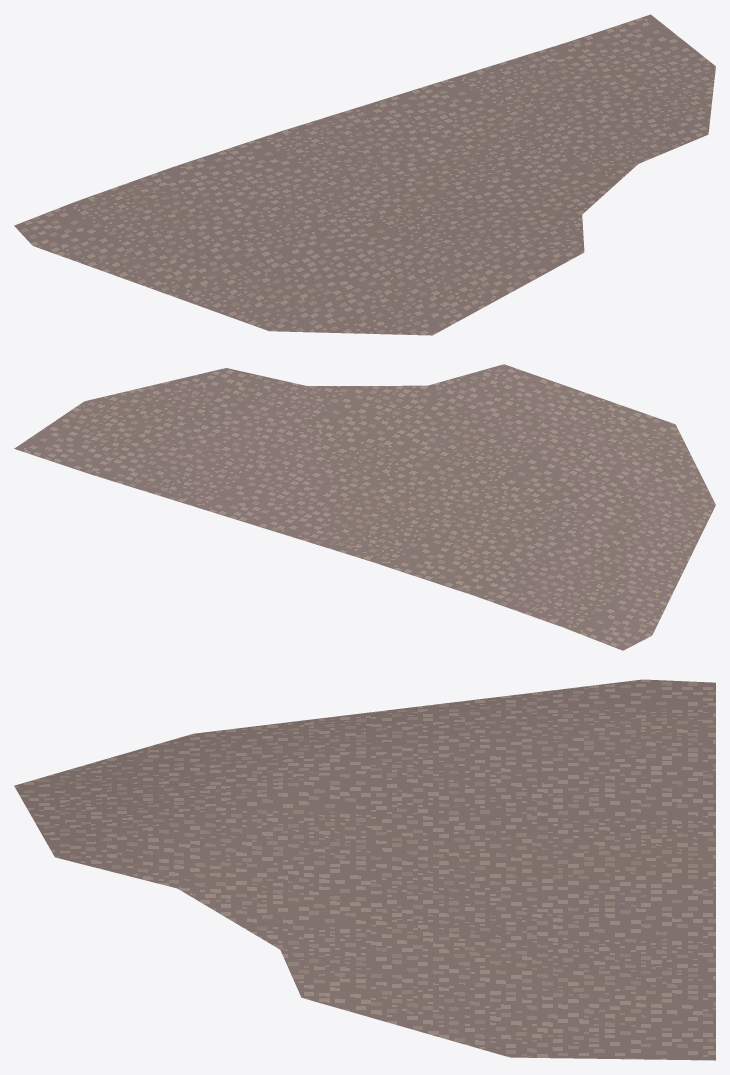
Rendered from kd_stage_135fe0_0_8_bounded.glb.
3 views of the same model, one above another, from view 1: azimuth 30°, elevation 25°; view 2: azimuth 150°, elevation 25°; view 3: azimuth 270°, elevation 25° (orthographic). The views are drawn at different scales.
Visible parts, largest first — view 1: kd_stage_135fe0_0_8_bounded; view 2: kd_stage_135fe0_0_8_bounded; view 3: kd_stage_135fe0_0_8_bounded.
Boxes of the visible parts, x1=… form: kd_stage_135fe0_0_8_bounded: x1=14, y1=14, x2=715, y2=335; kd_stage_135fe0_0_8_bounded: x1=14, y1=364, x2=715, y2=650; kd_stage_135fe0_0_8_bounded: x1=14, y1=679, x2=715, y2=1060.
Bounding box in the file's own units: 10.84 × 0.9481 × 6.92.
Materials: 1 (1 with a texture image).
